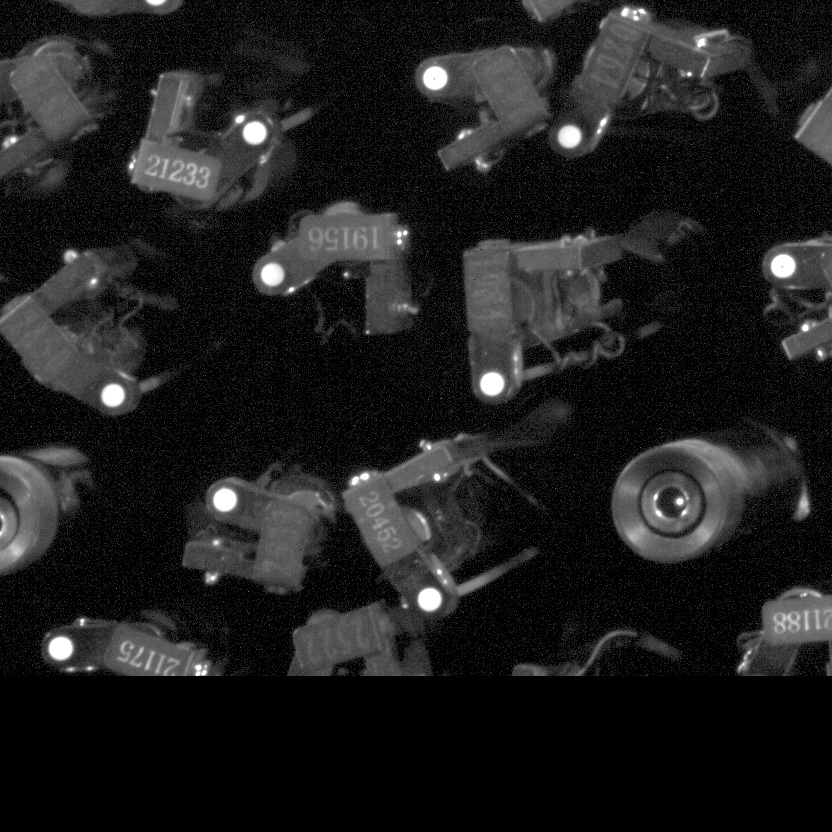collision: (514, 88, 574, 148)
